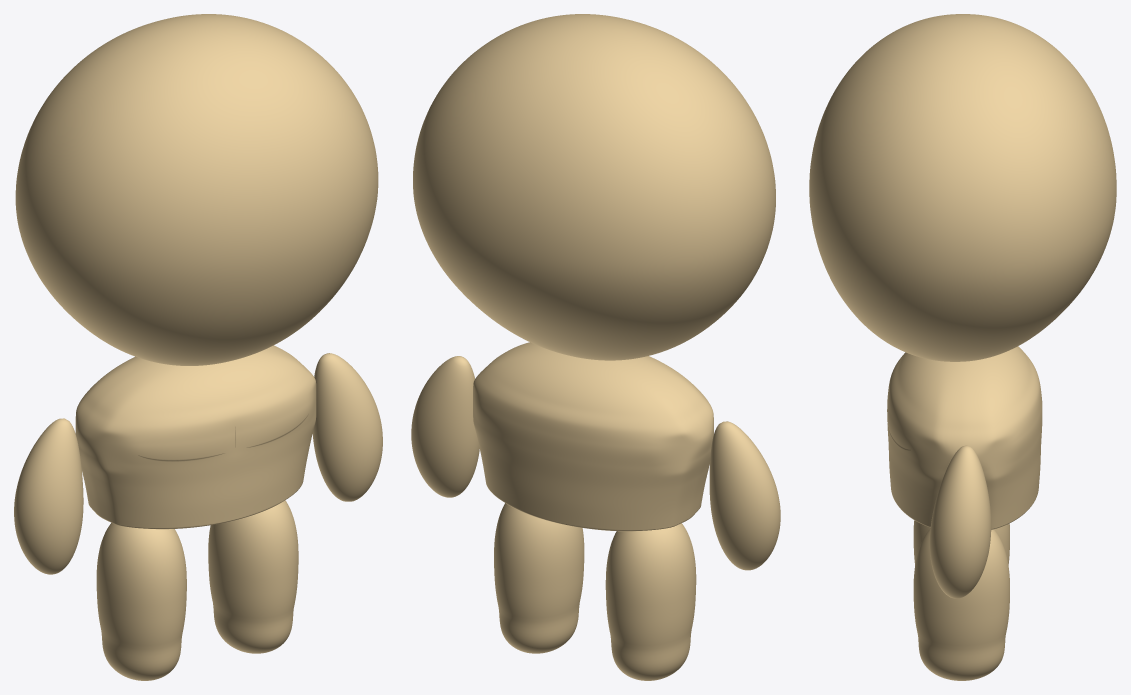
Rendered from Masculine-pants-shirtless-base263.glb.
3 renders of one model, left to right at view 1: azimuth 30°, elevation 25°; view 2: azimuth 150°, elevation 25°; view 3: azimuth 270°, elevation 25°, orthographic. The views are drawn at different scales.
Parts seen in each view (by area): view 1: Skin / soft oval head, Skin / rounded torso, Skin / pants fitted leg -1, Skin / pants fitted leg 1, Skin / swept arm -1, Skin / swept arm 1; view 2: Skin / soft oval head, Skin / rounded torso, Skin / pants fitted leg -1, Skin / pants fitted leg 1, Skin / swept arm -1, Skin / swept arm 1; view 3: Skin / soft oval head, Skin / rounded torso, Skin / pants fitted leg 1, Skin / swept arm 1, Skin / pants fitted leg -1.
Part boxes in pixels (<box>): Skin / soft oval head: <box>15,14,378,365</box>; Skin / rounded torso: <box>75,345,316,529</box>; Skin / pants fitted leg -1: <box>96,523,186,680</box>; Skin / pants fitted leg 1: <box>208,500,298,653</box>; Skin / swept arm -1: <box>14,418,83,574</box>; Skin / swept arm 1: <box>312,353,382,501</box>; Skin / soft oval head: <box>413,14,775,360</box>; Skin / rounded torso: <box>473,342,713,531</box>; Skin / pants fitted leg -1: <box>605,523,696,680</box>; Skin / pants fitted leg 1: <box>494,503,584,653</box>; Skin / swept arm -1: <box>709,421,780,570</box>; Skin / swept arm 1: <box>411,356,479,497</box>; Skin / soft oval head: <box>809,14,1116,361</box>; Skin / rounded torso: <box>887,346,1042,529</box>; Skin / pants fitted leg 1: <box>913,528,1009,680</box>; Skin / swept arm 1: <box>929,445,991,598</box>; Skin / pants fitted leg -1: <box>913,520,1009,565</box>.
Size of the model in its own units: 1.07 by 1.8 by 0.81.
